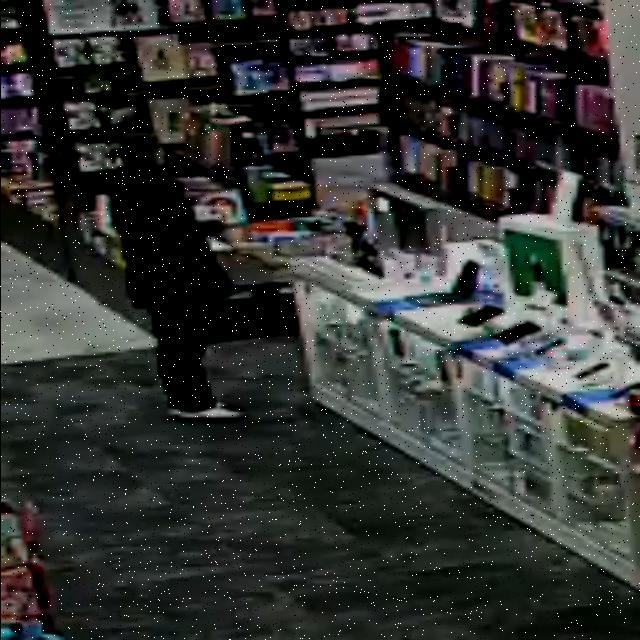article: (193, 205, 240, 223)
person: (111, 134, 239, 419)
